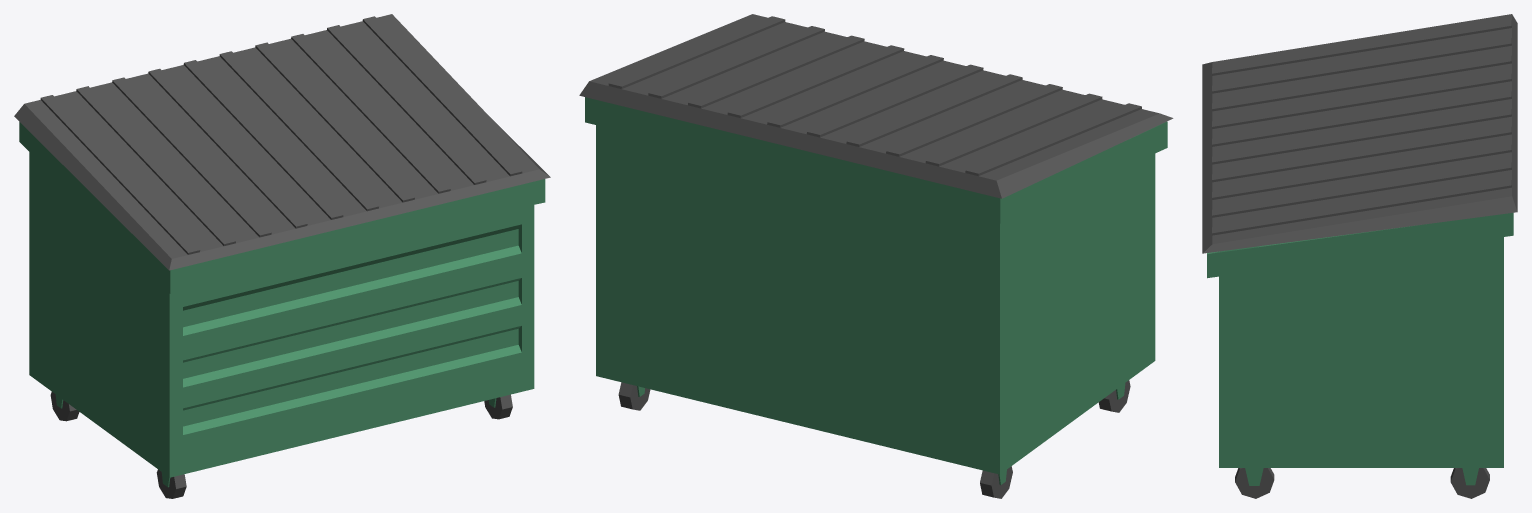
File: contenedor.glb
3 views of the same model, side by side, from view 1: azimuth 30°, elevation 25°; view 2: azimuth 150°, elevation 25°; view 3: azimuth 270°, elevation 25° (orthographic). The views are drawn at different scales.
Visible parts, largest first — view 1: Element 3, Cube.001; view 2: Element 3, Cube.001; view 3: Element 3, Cube.001.
Boxes of the visible parts, left/top/right/bottom form: Element 3: left=19, top=122, right=545, bottom=498; Cube.001: left=14, top=14, right=550, bottom=270; Element 3: left=585, top=97, right=1167, bottom=498; Cube.001: left=579, top=14, right=1173, bottom=198; Element 3: left=1207, top=212, right=1513, bottom=498; Cube.001: left=1202, top=14, right=1517, bottom=253.
Size of the model in its own units: 3.14 by 2.42 by 2.21.
